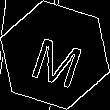M_N: (24, 24, 86, 86)
